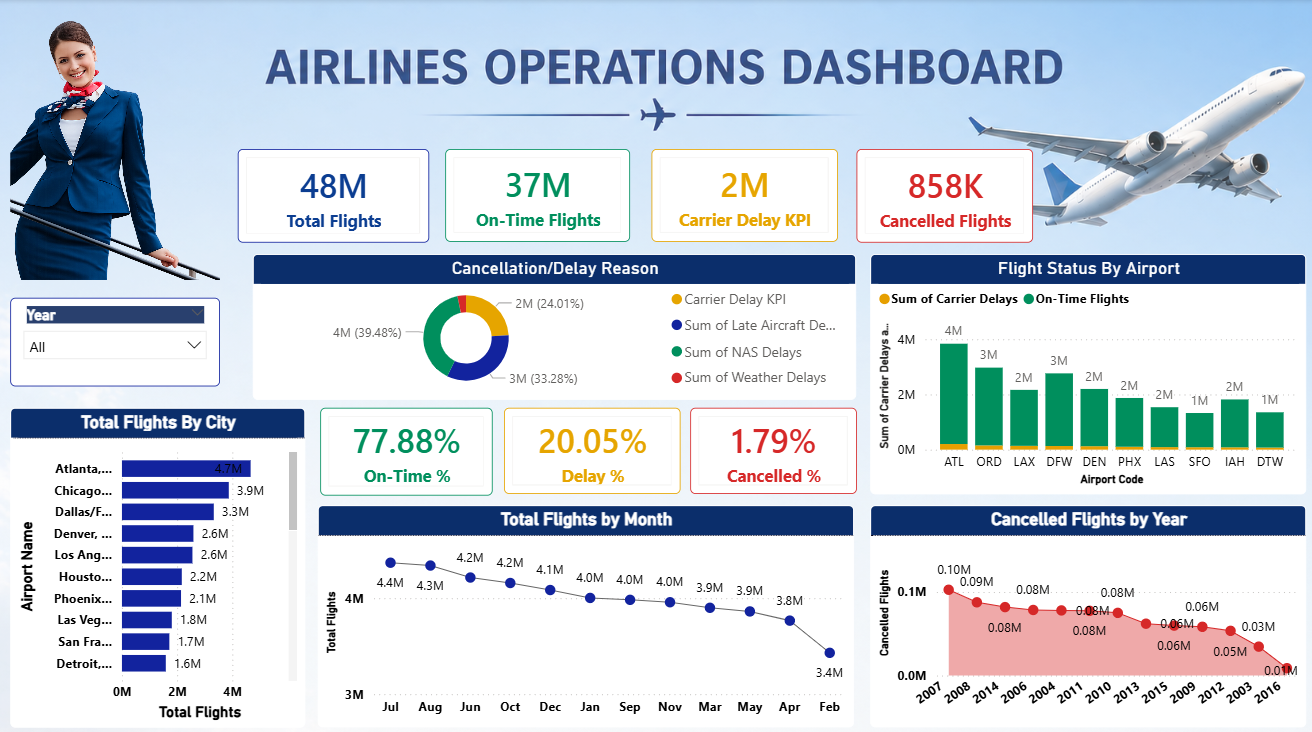

What the dashboard file says about the page in this screenshot:
{"tool":"powerbi","page":{"name":"Page 1","canvas":[1280,720],"ordinal":0},"visuals":[{"type":"cardVisual","fields":{"Data":["airlines.Total Flights KPI"]},"box":[230.4,144.8,184.6,90.5],"z":0},{"type":"cardVisual","fields":{"Data":["airlines.On-Time Flights KPI"]},"box":[430.7,144.8,178.6,89.3],"z":1000},{"type":"cardVisual","fields":{"Data":["airlines.Cancelled Flights KPI"]},"box":[827.6,144.8,170.1,90.5],"z":2000},{"type":"cardVisual","fields":{"Data":["airlines.Carrier Delay KPI"]},"box":[629.8,144.8,179.8,89.3],"z":3000},{"type":"clusteredBarChart","title":"Total Flights By City","fields":{"Category":["airlines.Airport Name"],"Y":["airlines.Total Flights KPI"]},"box":[10.9,394.5,284.7,308.8],"z":4000},{"type":"columnChart","title":"Flight Status By Airport","fields":{"Category":["airlines.Airport Code"],"Y":["Sum(airlines.Carrier Delays)","airlines.On-Time Flights KPI"]},"box":[840.9,246.1,421,231.6],"z":5000},{"type":"donutChart","title":"Cancellation/Delay Reason","fields":{"Y":["airlines.Carrier Delay KPI","Sum(airlines.Late Aircraft Delays)","Sum(airlines.NAS Delays)","Sum(airlines.Weather Delays)"]},"box":[244.9,246.1,582.7,141.2],"z":6000},{"type":"lineChart","fields":{"Y":["airlines.Total Flights KPI"],"Category":["airlines.Month Name"]},"box":[308,488.6,517.6,214.7],"z":7000},{"type":"areaChart","fields":{"Y":["airlines.Cancelled Flights KPI"],"Category":["airlines.Year"]},"box":[840.9,488.6,421,214.7],"z":8000},{"type":"slicer","fields":{"Values":["airlines.Year"]},"box":[10.9,288.3,202.7,85.7],"z":9000},{"type":"cardVisual","fields":{"Data":["airlines.Cancelled %"]},"box":[667.2,394.5,160.5,83.2],"z":10000},{"type":"cardVisual","fields":{"Data":["airlines.On-Time %"]},"box":[310.1,394.5,166.5,84.5],"z":11000},{"type":"cardVisual","fields":{"Data":["airlines.Delay %"]},"box":[487.4,394.5,170.1,83.2],"z":12000},{"type":"image","box":[10.9,0,202.7,271.4],"z":13000}]}

Visuals, with their boxes in screenshot pixels (x1, y1, x2, y2), scaled from the page's 1280x720 canvas onto the 1312x732 screenshot:
cardVisual - airlines.Total Flights KPI: bbox=[236, 147, 425, 239]
cardVisual - airlines.On-Time Flights KPI: bbox=[441, 147, 625, 238]
cardVisual - airlines.Cancelled Flights KPI: bbox=[848, 147, 1023, 239]
cardVisual - airlines.Carrier Delay KPI: bbox=[646, 147, 830, 238]
"Total Flights By City" clusteredBarChart: bbox=[11, 401, 303, 715]
"Flight Status By Airport" columnChart: bbox=[862, 250, 1293, 486]
"Cancellation/Delay Reason" donutChart: bbox=[251, 250, 848, 394]
lineChart - airlines.Total Flights KPI x airlines.Month Name: bbox=[316, 497, 846, 715]
areaChart - airlines.Cancelled Flights KPI x airlines.Year: bbox=[862, 497, 1293, 715]
slicer - airlines.Year: bbox=[11, 293, 219, 380]
cardVisual - airlines.Cancelled %: bbox=[684, 401, 848, 486]
cardVisual - airlines.On-Time %: bbox=[318, 401, 489, 487]
cardVisual - airlines.Delay %: bbox=[500, 401, 674, 486]
image: bbox=[11, 0, 219, 276]
